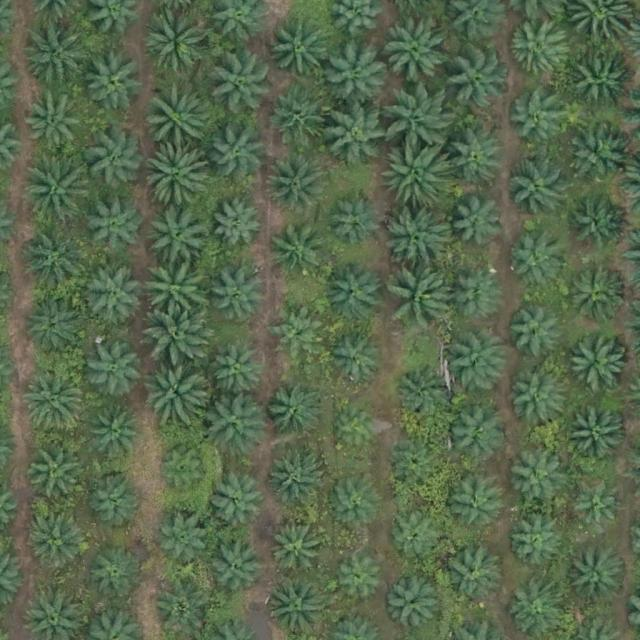Healthy: (207, 48, 278, 119), (560, 120, 630, 191), (144, 142, 214, 213), (24, 19, 94, 90), (381, 142, 451, 212), (383, 84, 453, 154), (23, 158, 93, 228), (24, 367, 87, 430), (144, 263, 207, 326), (147, 307, 210, 370), (207, 394, 270, 457), (390, 270, 453, 333), (440, 548, 503, 611), (565, 404, 628, 467), (564, 262, 627, 325), (505, 158, 568, 221), (509, 89, 572, 152), (325, 46, 388, 109), (265, 154, 328, 217), (145, 84, 208, 147), (149, 202, 212, 265), (85, 129, 148, 192), (82, 53, 145, 116), (24, 89, 87, 152), (24, 231, 86, 294), (28, 511, 90, 574), (81, 263, 143, 326), (143, 359, 205, 422), (322, 264, 384, 327), (326, 329, 388, 392), (395, 363, 457, 426), (506, 446, 568, 509), (567, 330, 629, 393), (573, 53, 635, 116), (447, 51, 509, 114), (445, 127, 507, 190), (385, 209, 447, 272), (384, 18, 446, 81), (329, 107, 391, 170), (270, 19, 332, 82), (143, 12, 205, 75), (83, 194, 145, 257), (447, 334, 509, 396), (270, 87, 332, 149), (89, 402, 144, 458), (29, 304, 84, 359), (89, 346, 144, 401), (88, 474, 143, 529), (88, 549, 143, 604), (155, 446, 210, 501), (159, 514, 214, 569), (155, 585, 210, 640), (213, 346, 268, 401), (208, 478, 263, 533), (211, 541, 266, 596), (271, 226, 326, 281), (271, 306, 326, 361), (269, 387, 324, 442), (269, 453, 324, 508), (327, 474, 382, 529), (392, 440, 447, 495), (389, 513, 444, 568), (388, 581, 443, 636), (448, 269, 503, 324), (449, 408, 504, 463), (446, 478, 501, 533), (509, 306, 564, 361), (509, 373, 564, 428), (508, 518, 563, 573), (571, 546, 626, 601), (567, 479, 622, 534), (569, 196, 624, 251), (511, 23, 566, 78), (449, 194, 504, 249), (326, 197, 381, 252), (212, 196, 267, 251), (28, 448, 82, 503), (211, 271, 265, 326), (271, 524, 325, 579), (335, 551, 389, 606), (507, 585, 561, 640), (505, 236, 559, 291), (212, 128, 266, 183)
Small: (334, 407, 381, 455)
